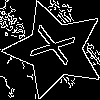X: (30, 25, 86, 70)
